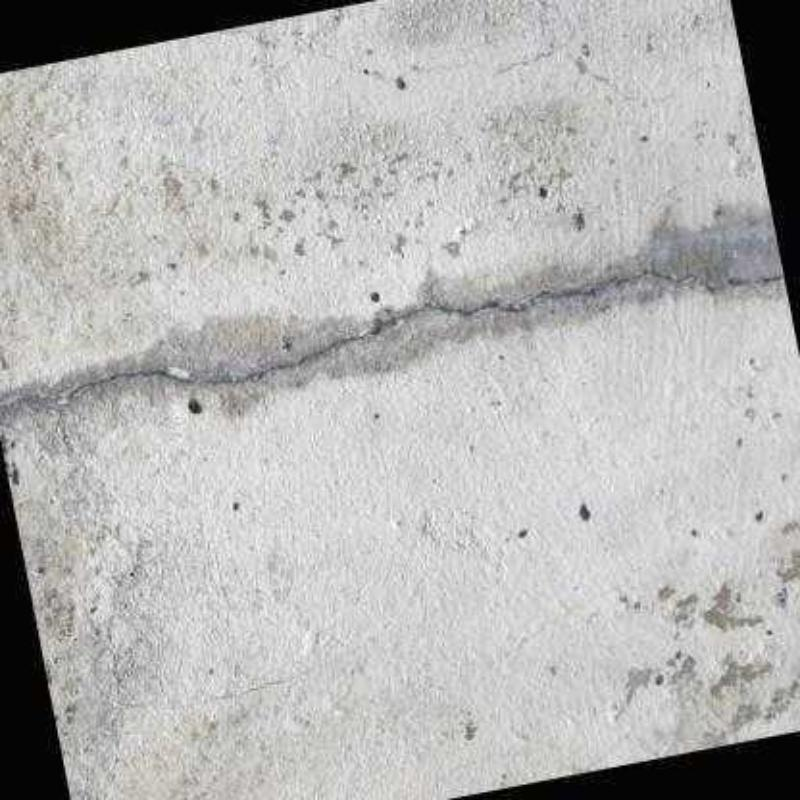pothole: (0, 266, 784, 419), (494, 52, 556, 75), (215, 681, 285, 698)
